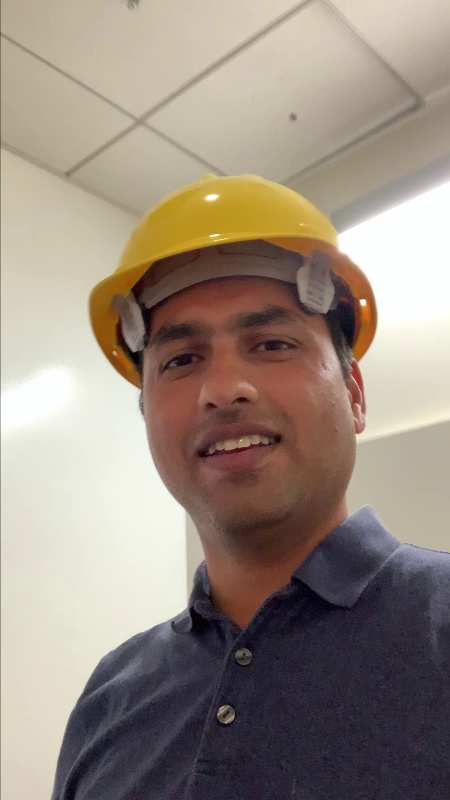helmet: (75, 171, 383, 332)
